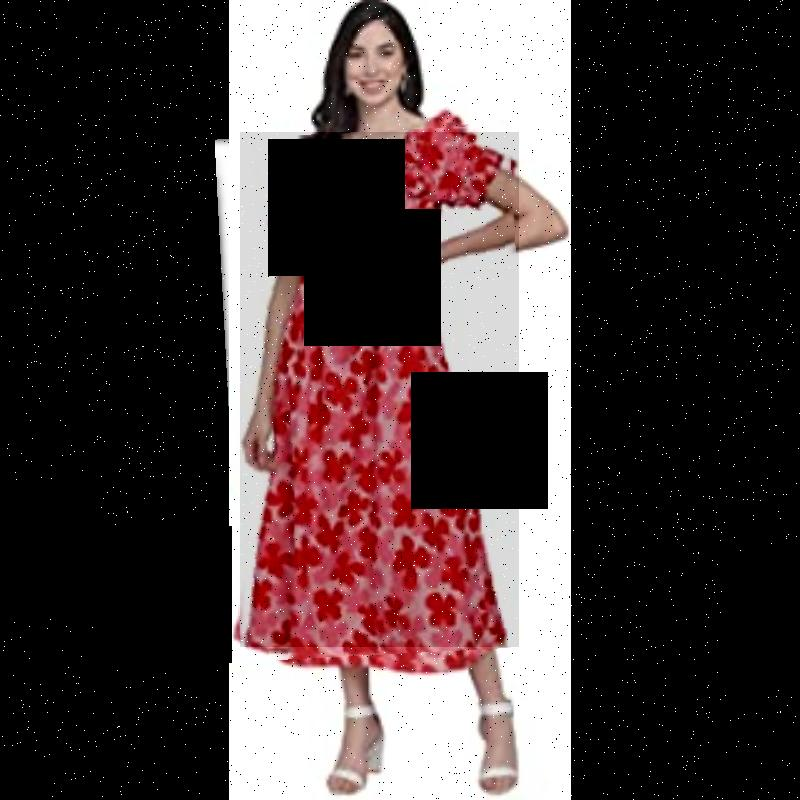Maxi: (241, 133, 519, 647)
